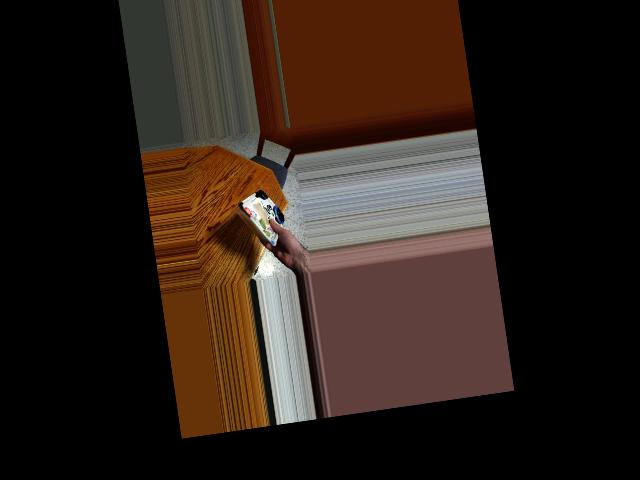cheese: (224, 183, 288, 247)
